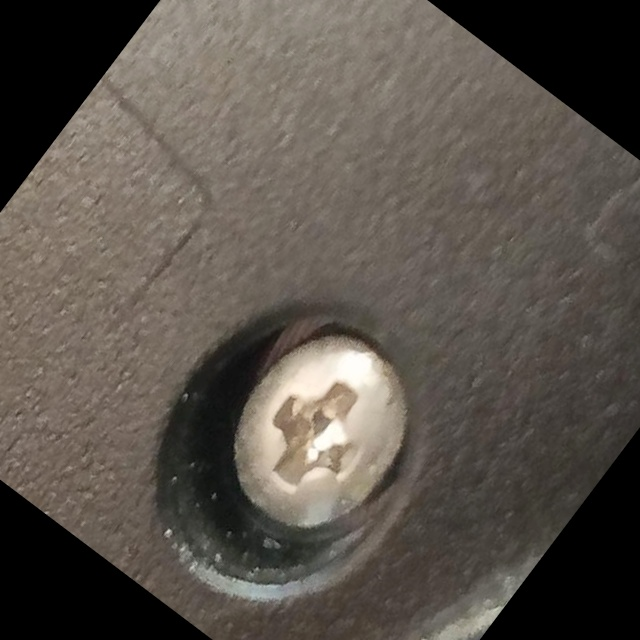phillips: (191, 302, 447, 566)
